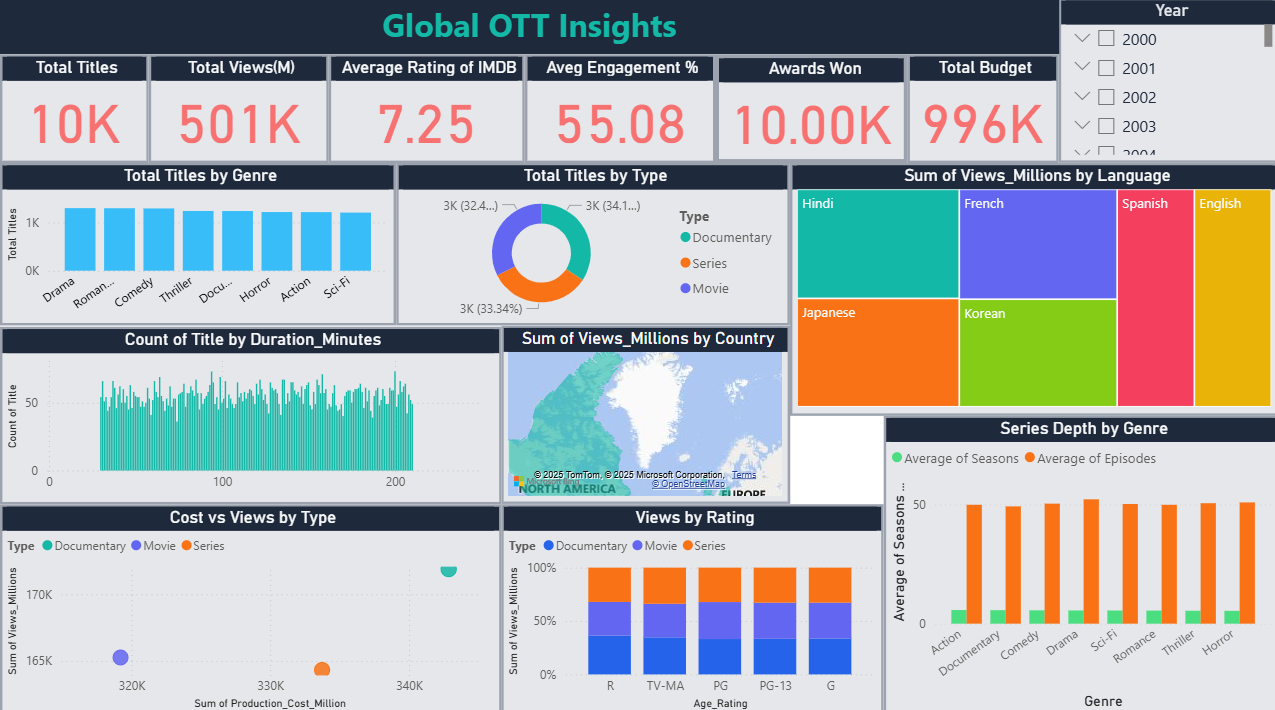

This screenshot's page, from the dashboard's own definition file:
{"tool":"powerbi","page":{"name":"Page 1","canvas":[1280,720],"ordinal":0},"visuals":[{"type":"slicer","title":"Year","fields":{"Values":["Sheet1.Release_Year","Sheet1.Type","Sheet1.Language","Sheet1.Country"]},"box":[1058.8,0,221.2,165],"z":0},{"type":"card","title":"Average Rating of IMDB","fields":{"Values":["Avg(Sheet1.Rating_IMDb)"]},"box":[328.8,56.2,196.2,108.8],"z":1000},{"type":"card","title":"Total Titles","fields":{"Values":["Sheet1.Total Titles"]},"box":[0,56.2,148.8,108.8],"z":2000},{"type":"card","title":"Total Views(M)","fields":{"Values":["Sheet1.Total Views (M)"]},"box":[148.8,56.2,180,108.8],"z":3000},{"type":"card","title":"Aveg Engagement %","fields":{"Values":["Sheet1.Avg Engagement %"]},"box":[525,56.2,190,108.8],"z":4000},{"type":"card","title":"Total Budget ","fields":{"Values":["Sum(Sheet1.Production_Cost_Million)"]},"box":[907.5,56.2,151.2,108.8],"z":5000},{"type":"card","title":"Awards Won","fields":{"Values":["CountNonNull(Sheet1.Awards_Won)"]},"box":[715,56.2,192.5,108.8],"z":6000},{"type":"clusteredColumnChart","fields":{"Category":["Sheet1.Genre"],"Y":["Sheet1.Total Titles"]},"box":[0,165,396.2,162.5],"z":7000},{"type":"donutChart","fields":{"Category":["Sheet1.Type"],"Y":["Sheet1.Total Titles"]},"box":[396.2,165,393.8,162.5],"z":8000},{"type":"filledMap","fields":{"Category":["Sheet1.Country"]},"box":[501.2,327.5,288.8,178.8],"z":9000},{"type":"scatterChart","title":"Cost vs Views by Type","fields":{"X":["Sum(Sheet1.Production_Cost_Million)"],"Y":["Sum(Sheet1.Views_Millions)"],"Size":["Sheet1.Awards Won"],"Series":["Sheet1.Type"]},"box":[0,506.2,501.2,213.8],"z":10000},{"type":"hundredPercentStackedColumnChart","title":"Views by Rating","fields":{"Category":["Sheet1.Age_Rating"],"Series":["Sheet1.Type"],"Y":["Sum(Sheet1.Views_Millions)"]},"box":[501.2,506.2,382.5,213.8],"z":11000},{"type":"clusteredColumnChart","fields":{"Category":["Sheet1.Duration_Minutes"],"Y":["CountNonNull(Sheet1.Title)"]},"box":[0,328.8,501.2,177.5],"z":12000},{"type":"clusteredColumnChart","title":"Series Depth by Genre","fields":{"Category":["Sheet1.Genre"],"Y":["Avg(Sheet1.Seasons)","Avg(Sheet1.Episodes)"]},"box":[883.8,417.5,396.2,302.5],"z":13000},{"type":"treemap","fields":{"Group":["Sheet1.Language"],"Values":["Sum(Sheet1.Views_Millions)"]},"box":[790,165,490,252.5],"z":14000},{"type":"textbox","box":[0,0,1059,56.3],"z":14001}]}

Visuals, with their boxes in screenshot pixels (x1, y1, x2, y2), scaled from the page's 1280x720 canvas onto the 1275x710 screenshot:
"Year" slicer: <region>1055, 0, 1274, 163</region>
"Average Rating of IMDB" card: <region>328, 55, 523, 163</region>
"Total Titles" card: <region>0, 55, 148, 163</region>
"Total Views(M)" card: <region>148, 55, 328, 163</region>
"Aveg Engagement %" card: <region>523, 55, 712, 163</region>
"Total Budget " card: <region>904, 55, 1055, 163</region>
"Awards Won" card: <region>712, 55, 904, 163</region>
clusteredColumnChart - Sheet1.Genre x Sheet1.Total Titles: <region>0, 163, 395, 323</region>
donutChart - Sheet1.Type x Sheet1.Total Titles: <region>395, 163, 787, 323</region>
filledMap - Sheet1.Country: <region>499, 323, 787, 499</region>
"Cost vs Views by Type" scatterChart: <region>0, 499, 499, 709</region>
"Views by Rating" hundredPercentStackedColumnChart: <region>499, 499, 880, 709</region>
clusteredColumnChart - Sheet1.Duration_Minutes x CountNonNull(Sheet1.Title): <region>0, 324, 499, 499</region>
"Series Depth by Genre" clusteredColumnChart: <region>880, 412, 1274, 709</region>
treemap - Sheet1.Language x Sum(Sheet1.Views_Millions): <region>787, 163, 1274, 412</region>
textbox: <region>0, 0, 1055, 56</region>
